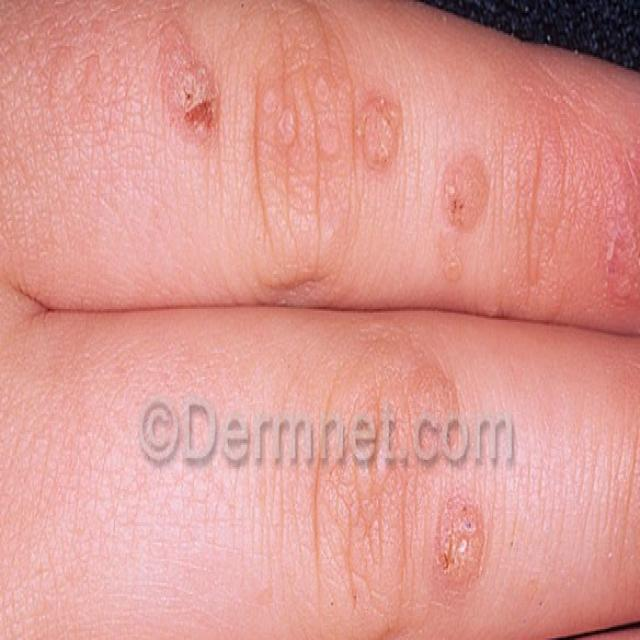Warts: (25, 0, 539, 303), (355, 347, 527, 607)
